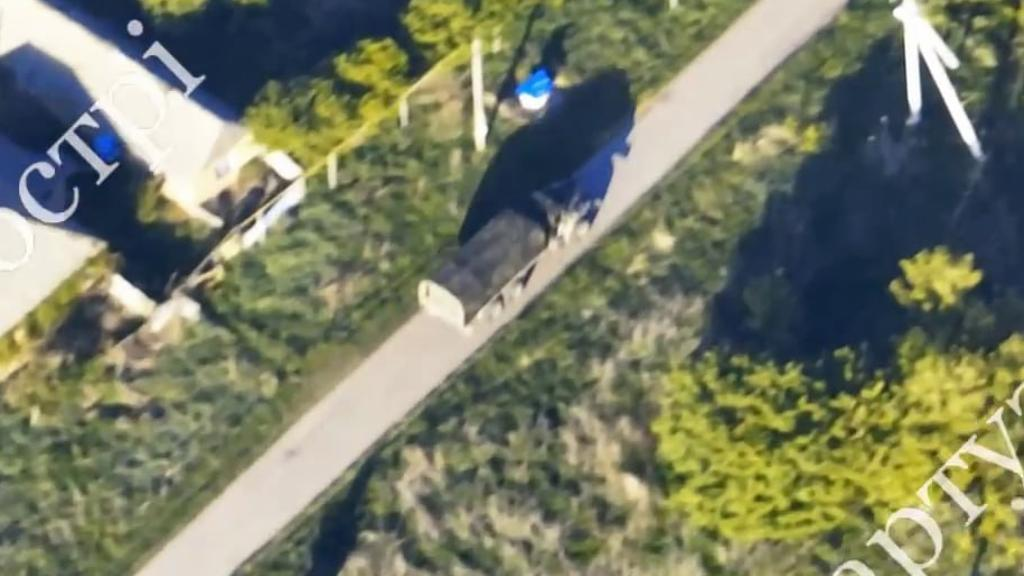TRUCK: (418, 172, 601, 341)
